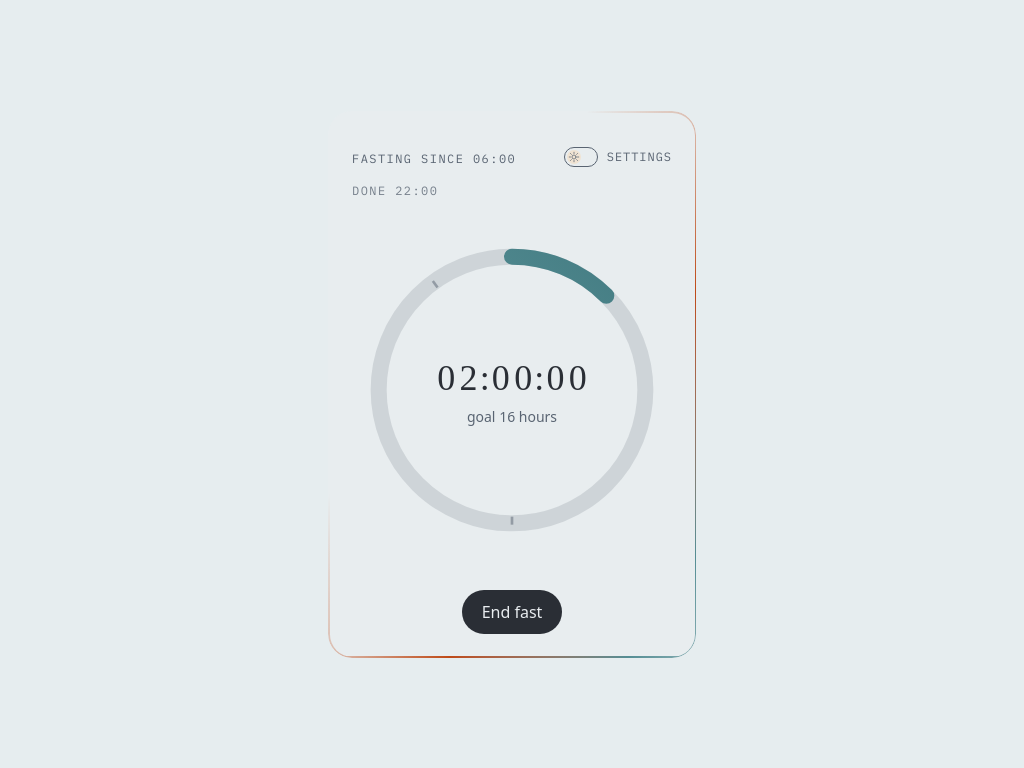
Test case: <Timer> active fast › resets the readout to elapsed time when a new fast starts
Click the button named "Showing elapsed time. Tap to show time remaining." at (512, 378), box [427,353,597,403]
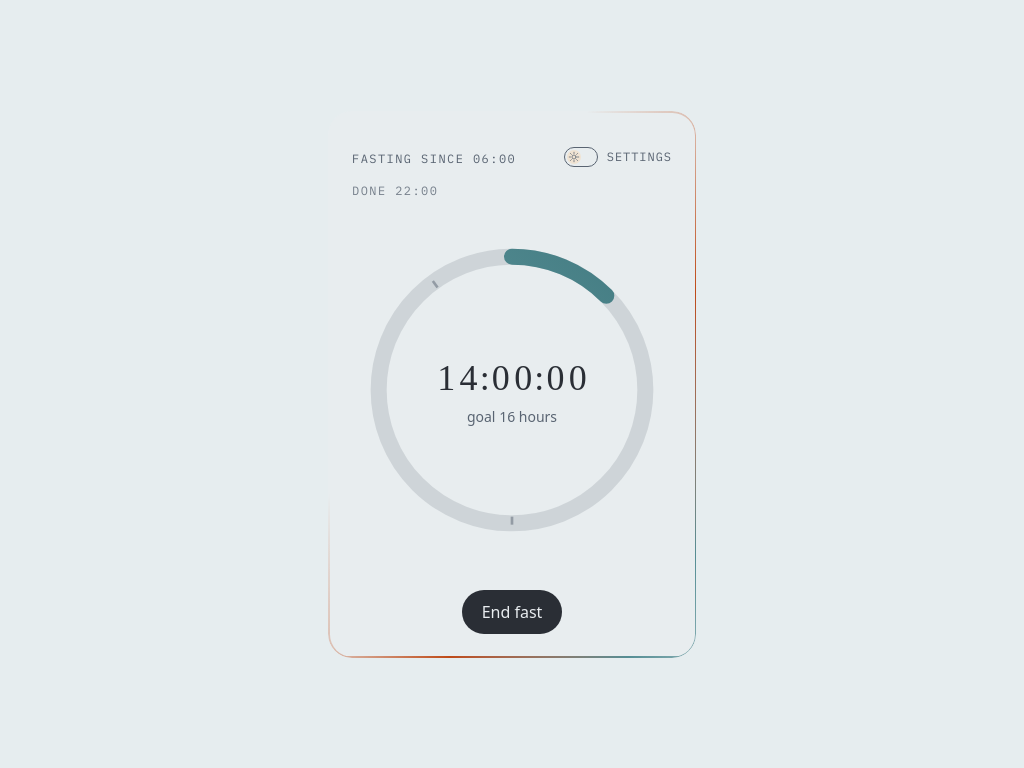
expect the button named "Showing elapsed time. Tap to show time remaining." reads "1 4 : 0 0 : 0 0": met, box [427,353,597,403]
Click the button "End fast" at (512, 612), box [462,590,562,634]
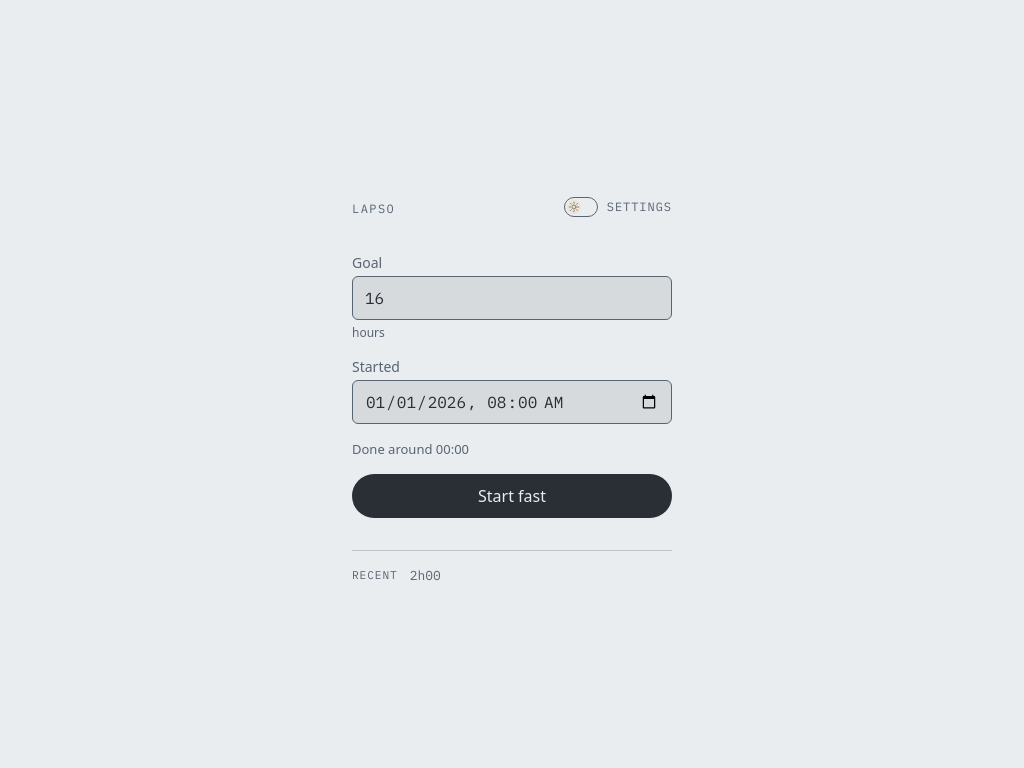
Click the button "Start fast" at (512, 496), box [352,474,672,518]
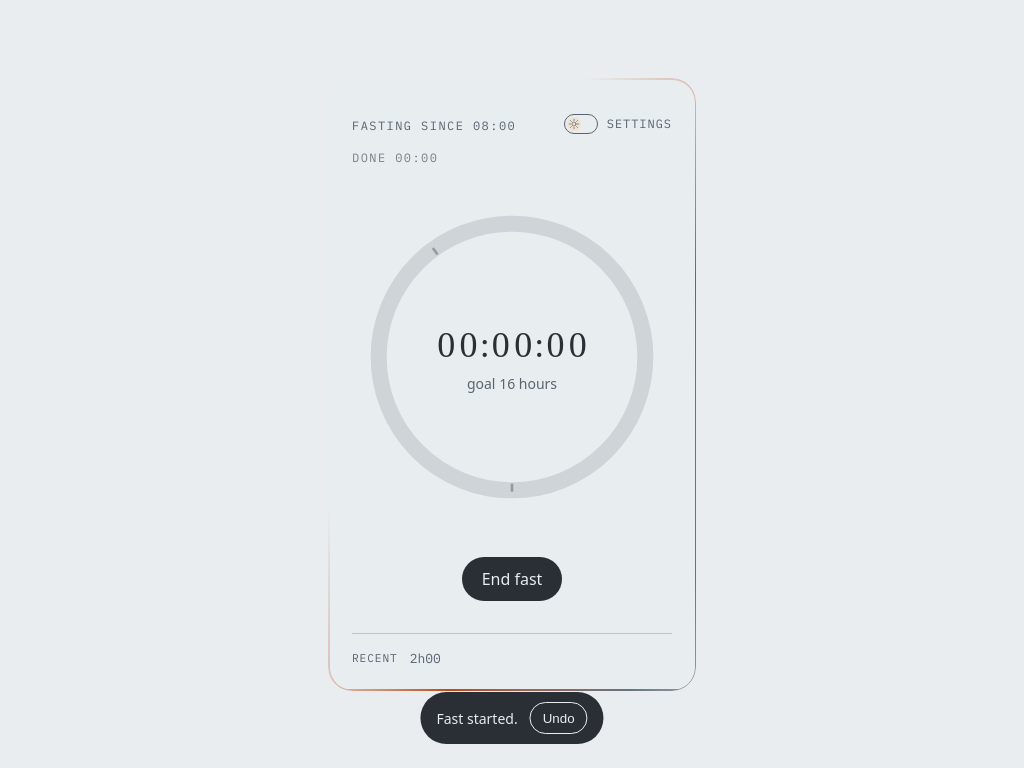
expect the button with class "readout-time" reads "0 0 : 0 0 : 0 0": met, box [427,320,597,370]
